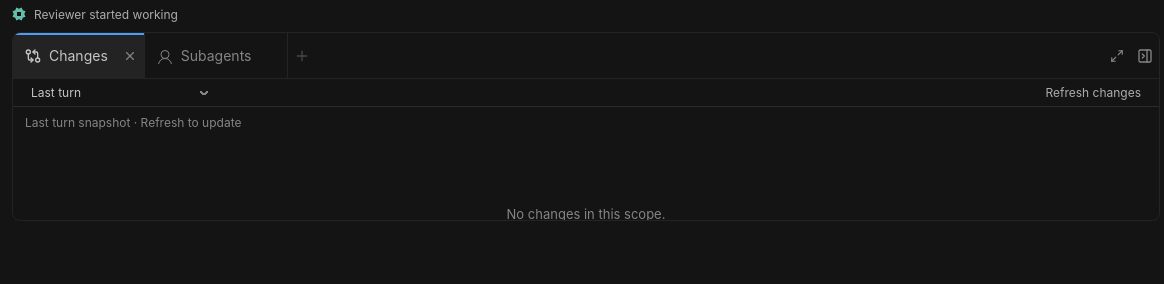
Test case: Agent artifact file chips › navigates from Changes to a child selected by its transcript name
Check: the element named "Chat changes" is shown, box left=13, top=79, right=1159, bottom=220
Click the button with aria-label "Open subagent Reviewer": (60, 14) left=34, top=6, right=86, bottom=22
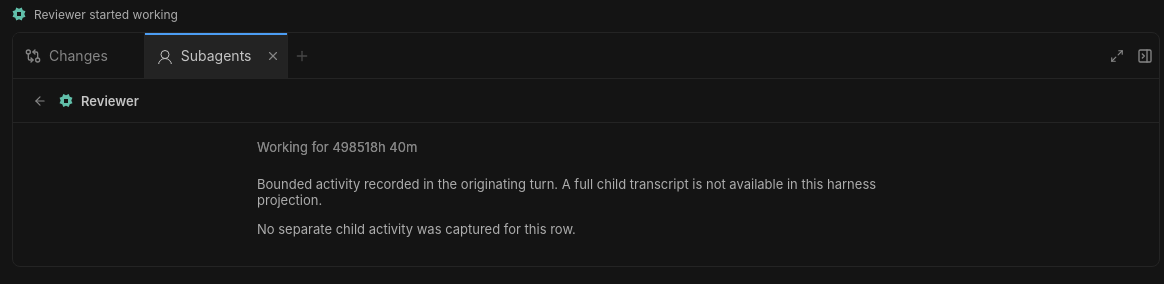
Check: the heading "Reviewer" is shown, box left=81, top=92, right=139, bottom=108
